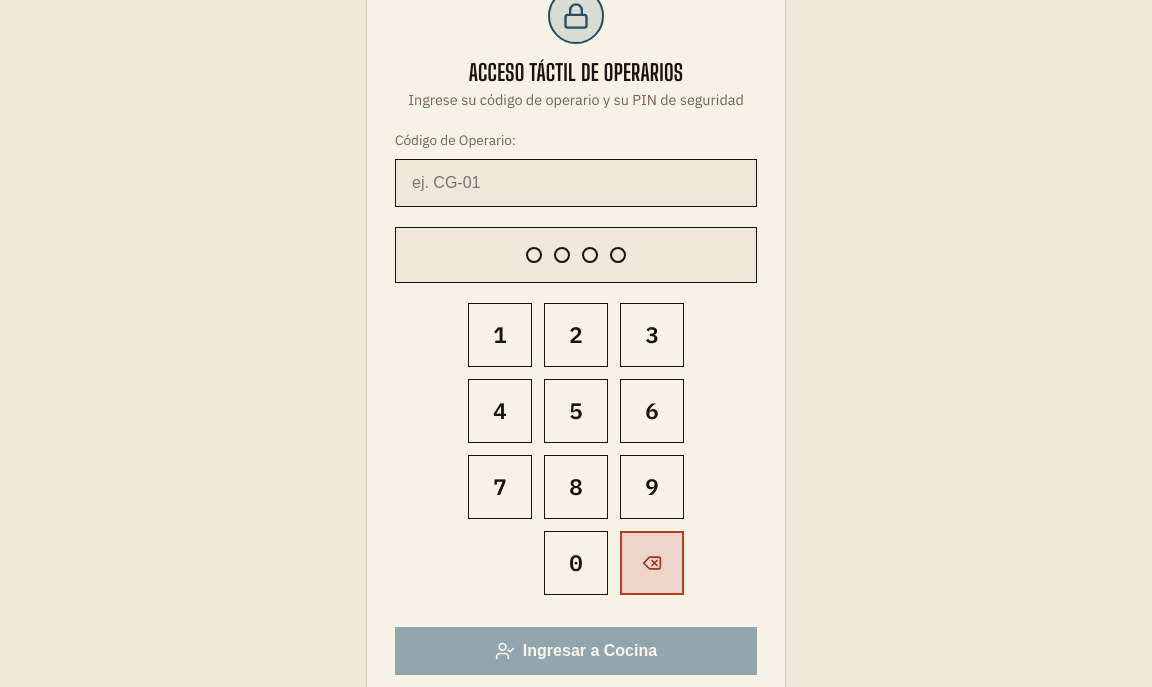
Test case: TK-007-FE: Tactile PIN Login Screen TDD Suite › debe autenticar exitosamente y redirigir al Dashboard de cocina con JWT
Note: ACT (Cuando)
Type "usr-carlos-1" into the field labelled "Código de Operario:" at (576, 183), box left=395, top=159, right=757, bottom=207
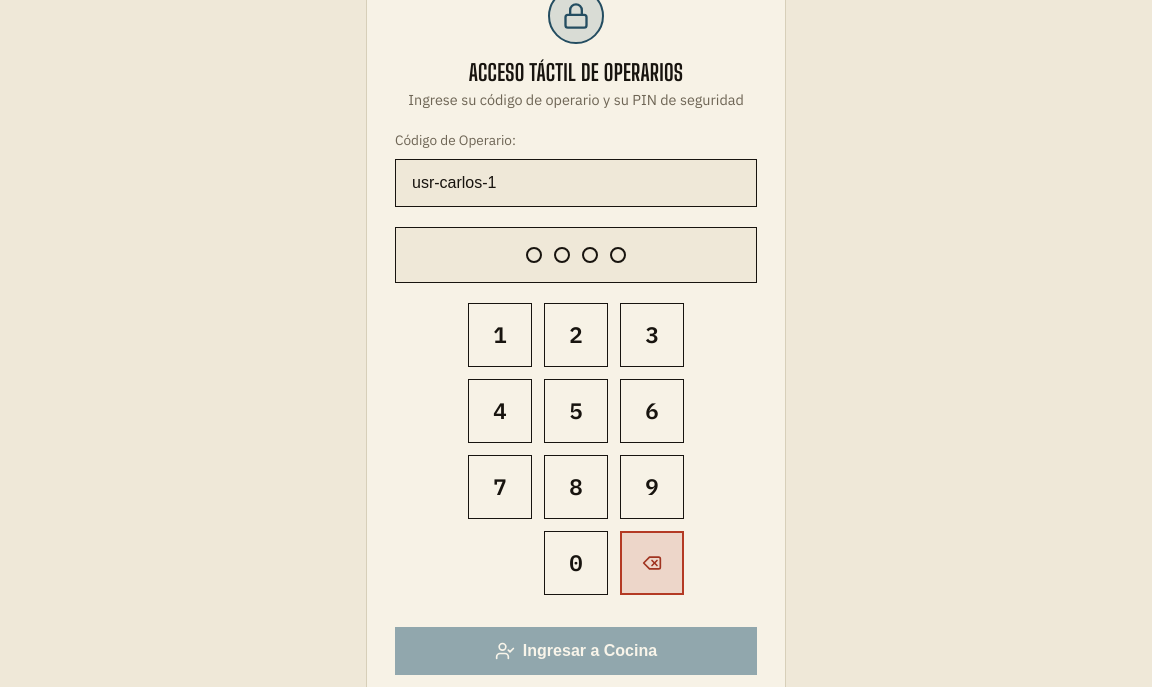
Click the button "1" at (500, 335), box left=468, top=303, right=532, bottom=367
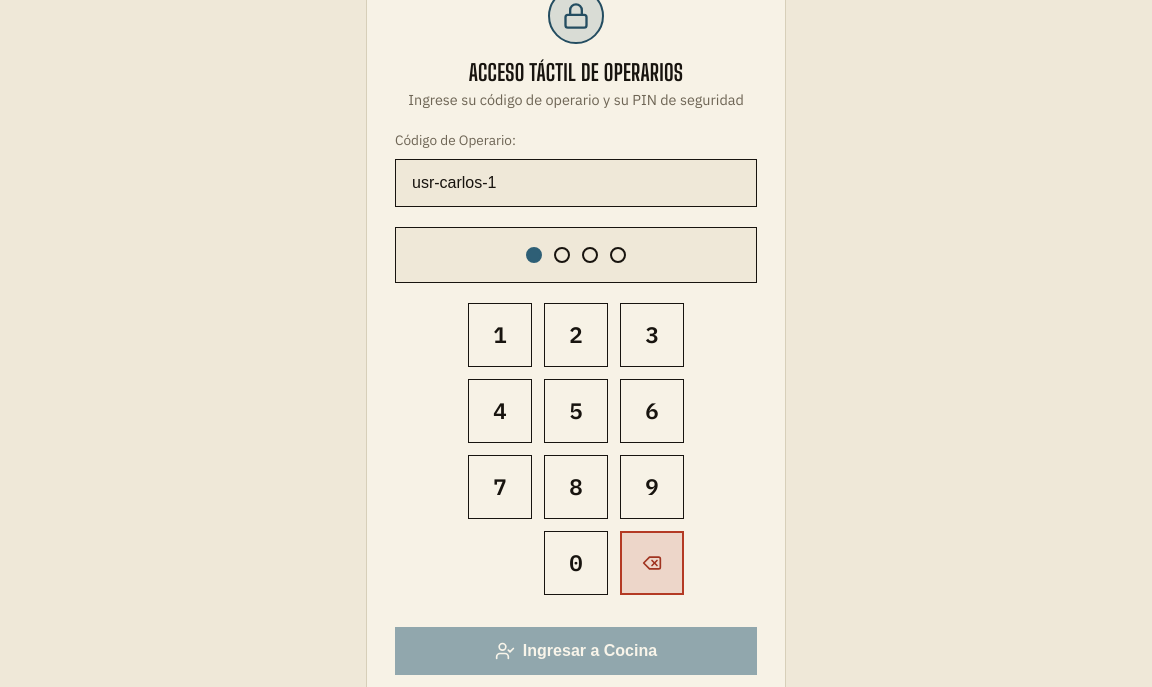
Click the button "2" at (576, 335), box left=544, top=303, right=608, bottom=367
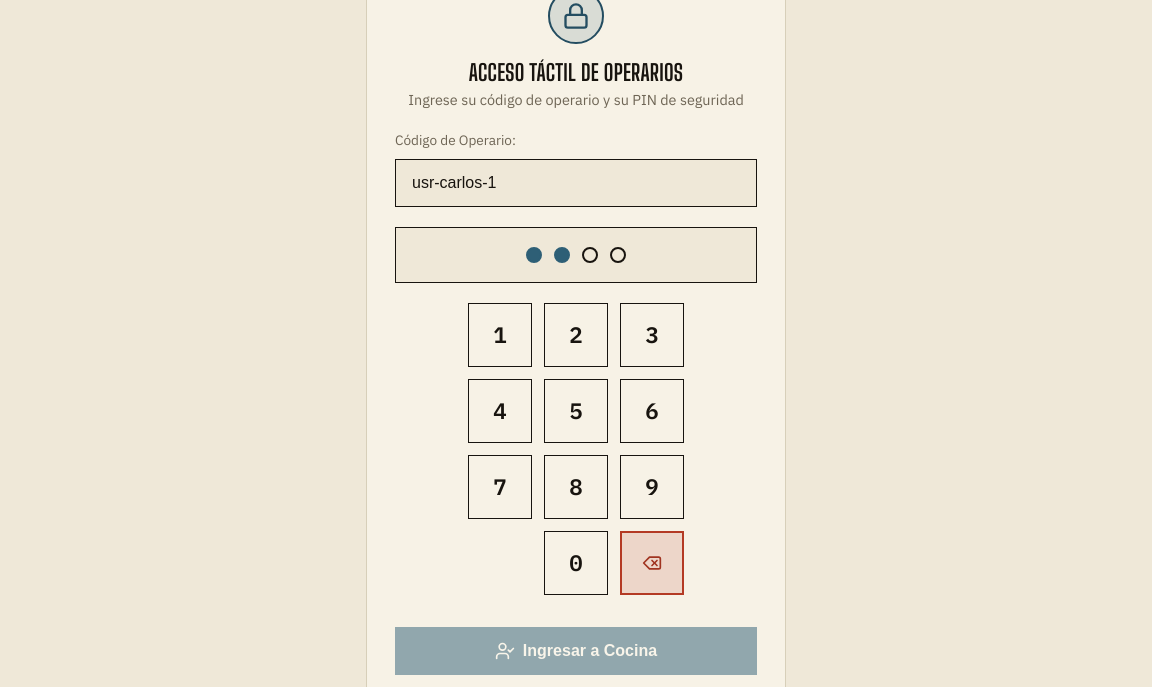
Click the button "3" at (652, 335), box left=620, top=303, right=684, bottom=367
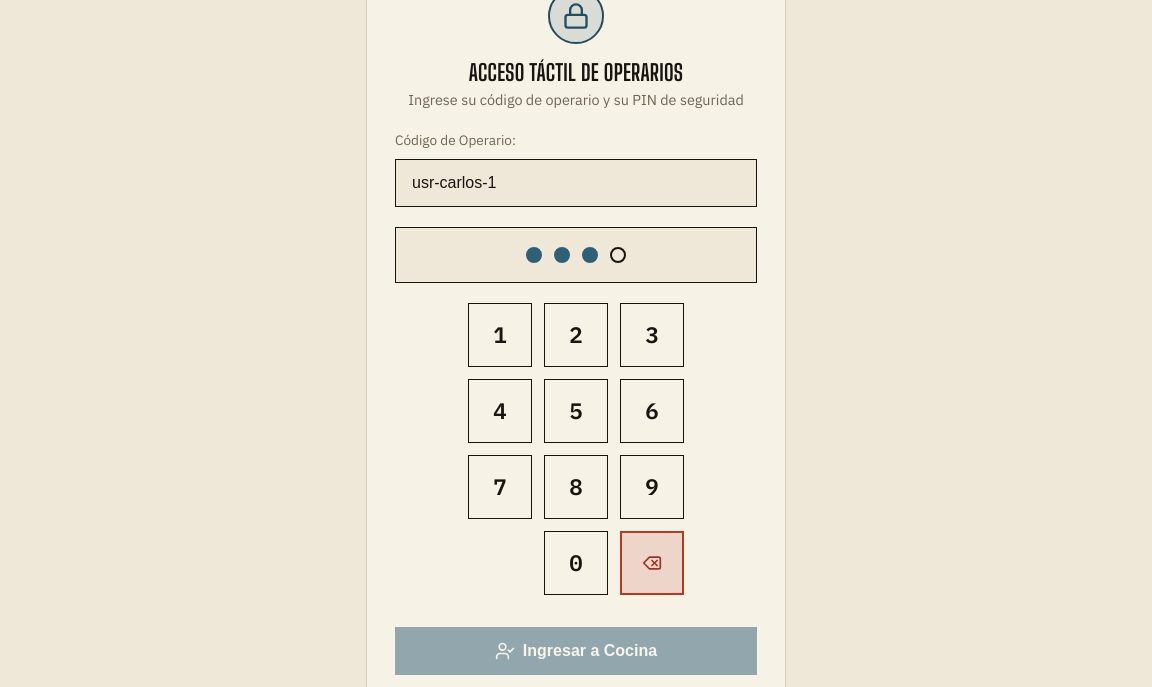
Click the button "4" at (500, 411), box left=468, top=379, right=532, bottom=443
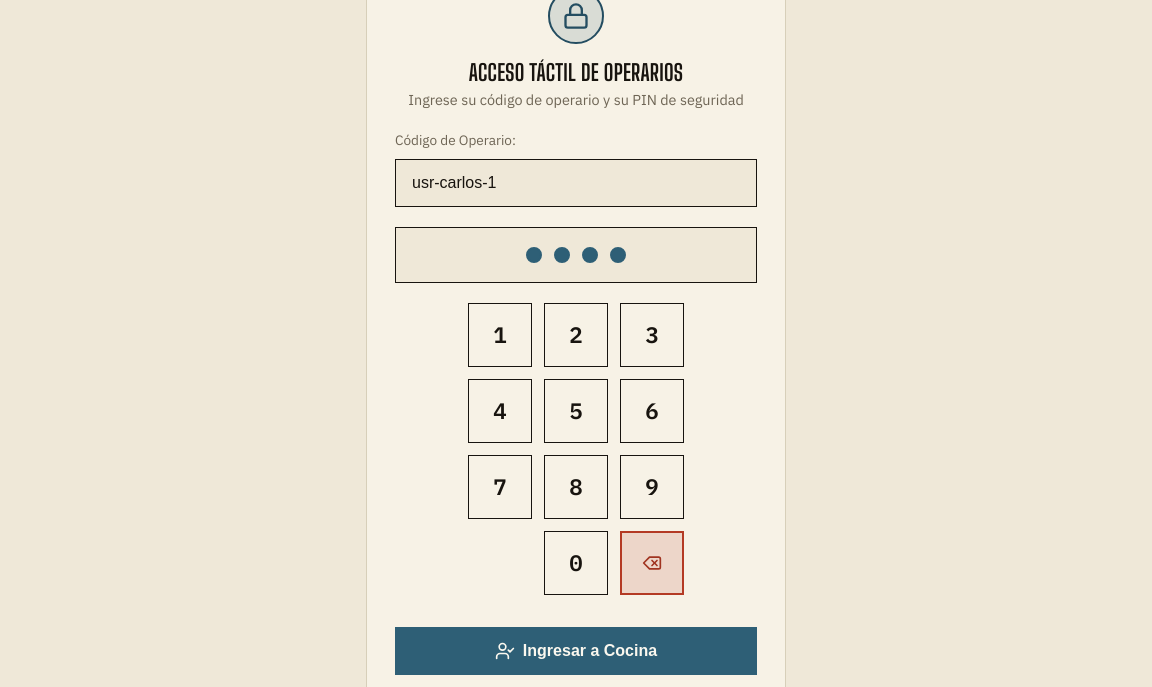
Click the button "Ingresar a Cocina" at (576, 651), box left=395, top=627, right=757, bottom=675
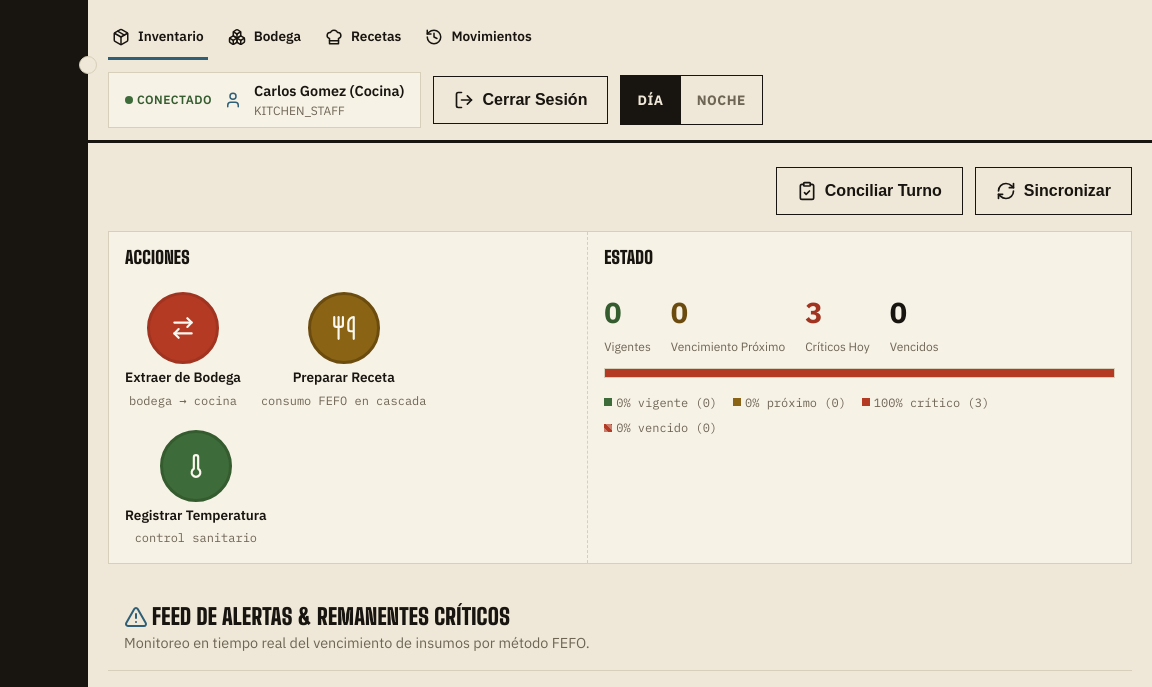
Result: the text "Carlos Gomez (Cocina)" is shown at left=254, top=81, right=404, bottom=102
